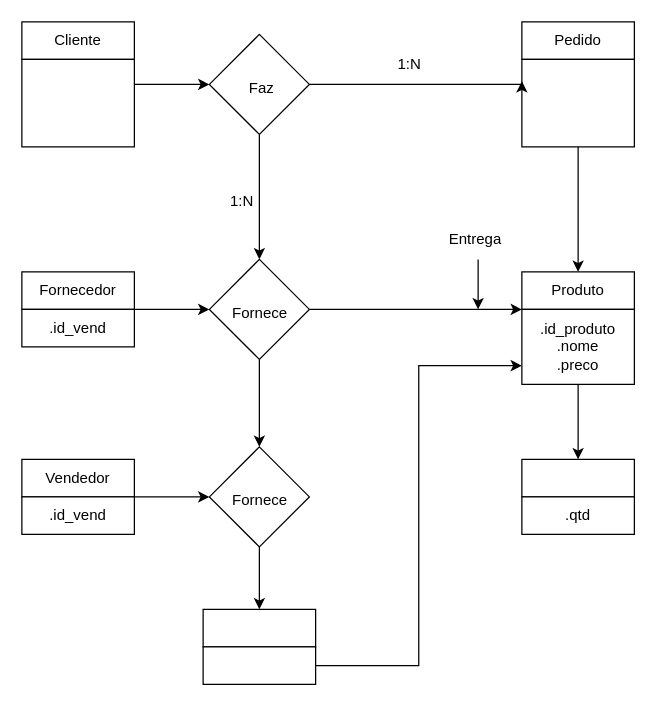
The diagram is 656 pixels wide and 706 high, and some of its shapes have lost their labels. The centre of each missing label's shape, as x and y in pixels:
.id_cliente .nome tipo_cliente {PF', 'PJ}: the point at 77,102
.id_pedido .data .status .cod.rastreio: the point at 577,102
.id_vedor: the point at 259,665
Estoque: the point at 577,477
Fornecee: the point at 259,627
